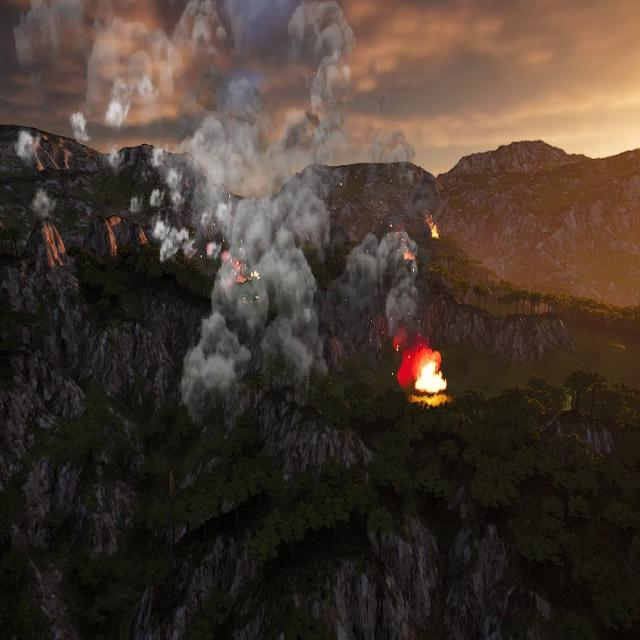fire: (401, 346, 446, 396), (222, 251, 258, 283), (430, 220, 440, 241), (402, 247, 416, 260)
smoke: (14, 0, 428, 408)
